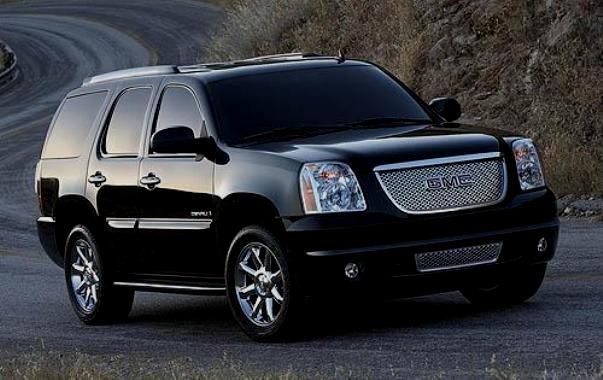GMC: (422, 169, 483, 194)
